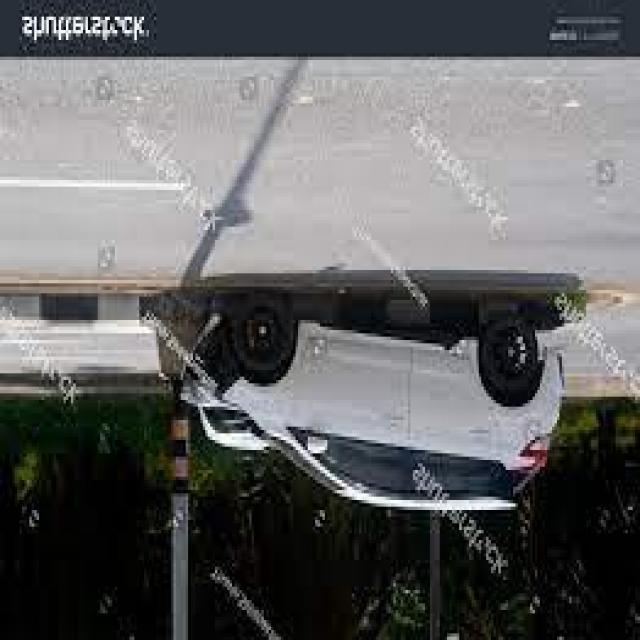vehicle: (48, 234, 594, 552)
